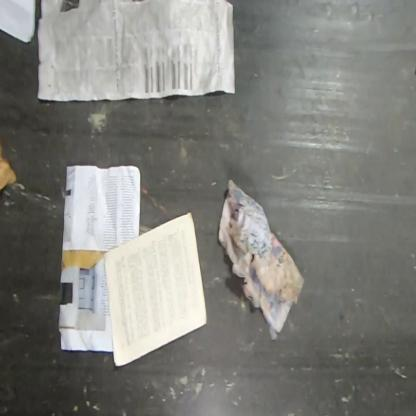cardboard: (0, 152, 18, 191)
